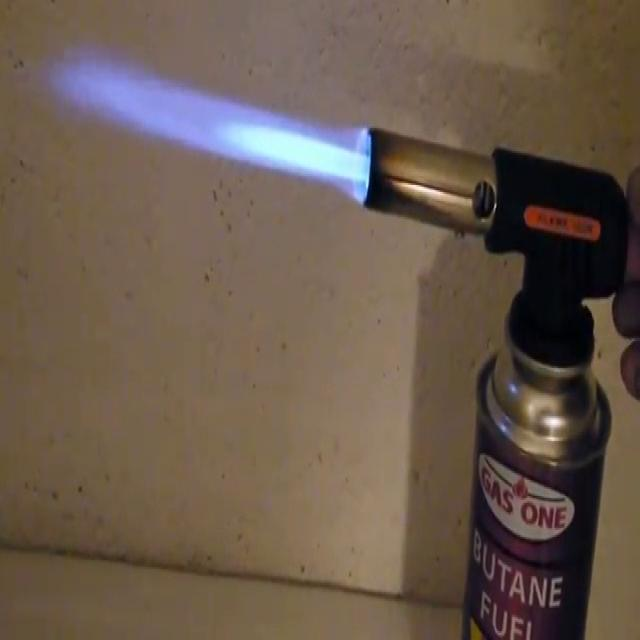fire: (40, 32, 368, 264)
